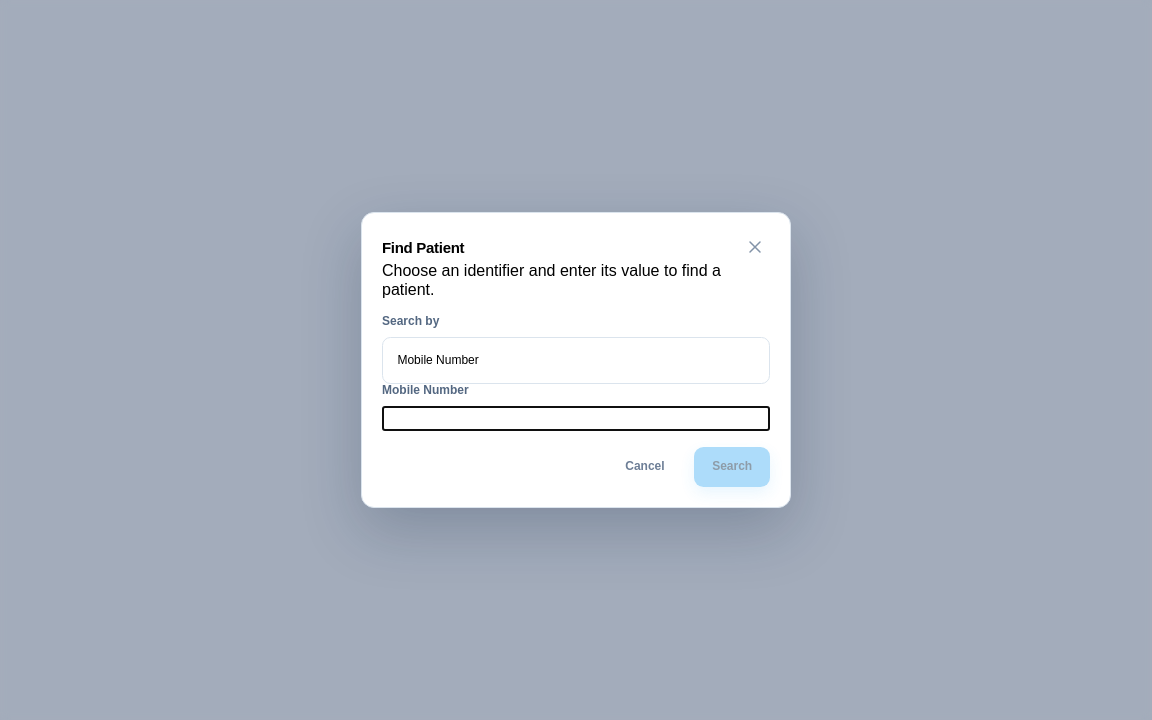
Test: Find Patient starts with only identifier controls and searches on submit
Expected: the text "Database Patient" is not shown
Type "9876543210" into the field named "Patient identifier".
click(576, 418); type("9876543210")  # box [382,406,770,431]
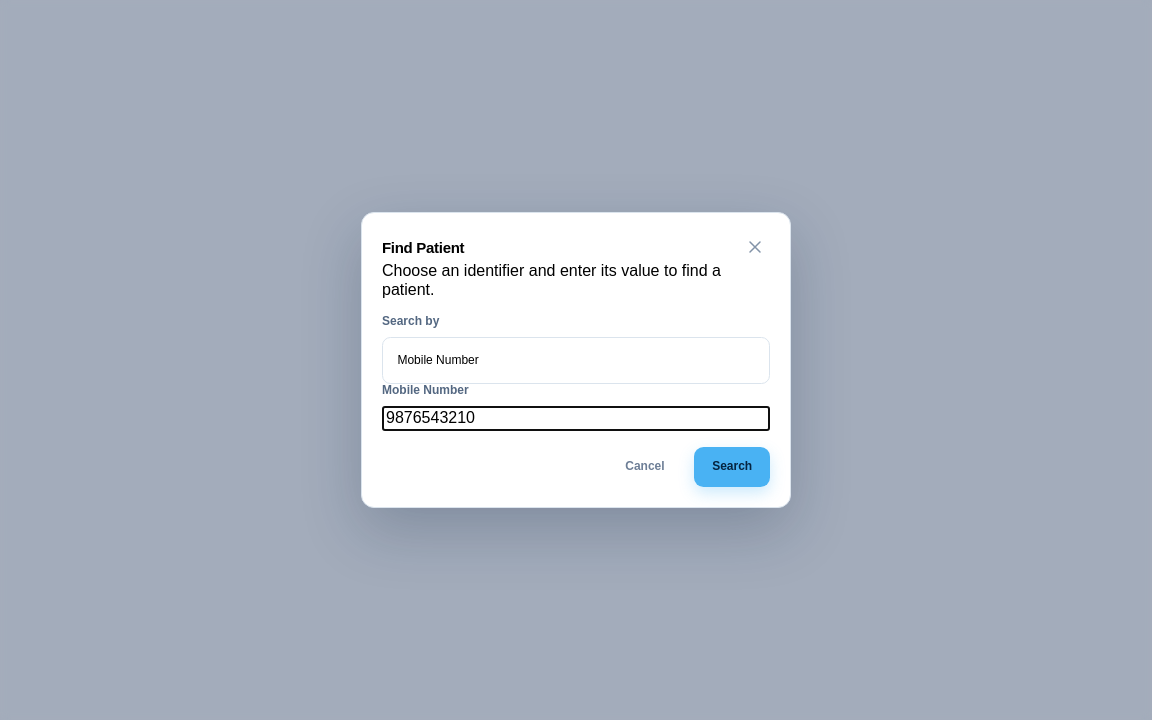
Click the button "Search".
click(732, 467)  # box [694,447,770,487]
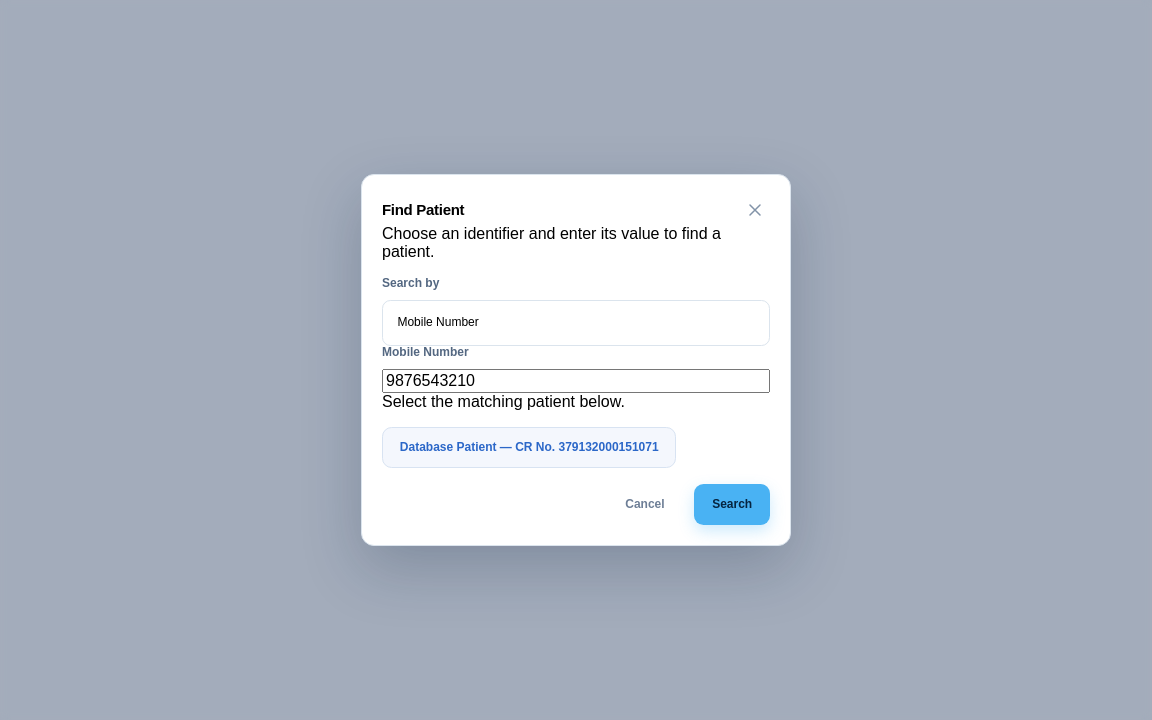
Expected: the button "Database Patient — CR No. 379132000151071" is shown, [382,427,676,468]
